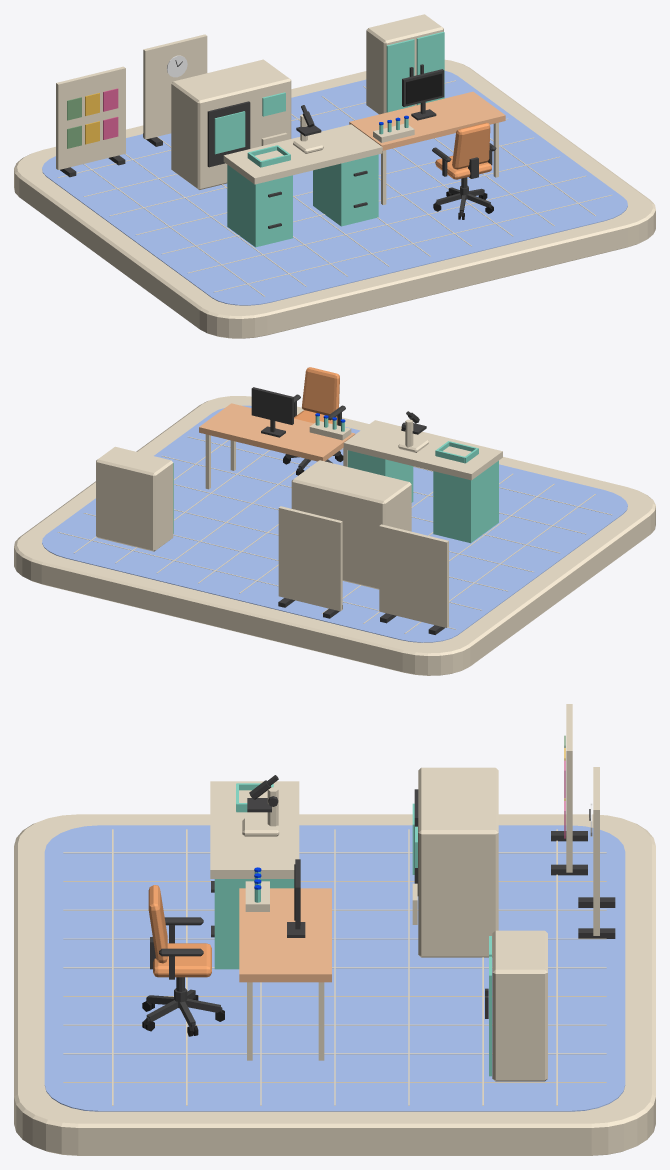
File: room.fbx
3 renders of one model, top to bottom at view 1: azimuth 30°, elevation 25°; view 2: azimuth 150°, elevation 25°; view 3: azimuth 270°, elevation 25°, orthographic. The views are drawn at different scales.
Visible parts, largest first — view 1: COM-02 Floor Surface, COM-01 Rounded Base Direct, Analysis cabinet, Top, Panel, Storage module, Worktop, Panel.001, Storage module.001, COM-04_Chair_blender_direct, Equipment case, Door (+7 smaller); view 2: COM-02 Floor Surface, COM-01 Rounded Base Direct, Analysis cabinet, Equipment case, Panel, Panel.001, Top, Storage module, Worktop, COM-04_Chair_blender_direct, Frame, Storage module.001 (+1 smaller); view 3: COM-02 Floor Surface, COM-01 Rounded Base Direct, Analysis cabinet, Top, Equipment case, Worktop, COM-04_Chair_blender_direct, Storage module.001, Panel.001, Panel, Grout X.007, Grout X.006 (+3 smaller).
Boxes of the visible parts, x1=… form: COM-02 Floor Surface: x1=42, y1=71, x2=627, y2=305; COM-01 Rounded Base Direct: x1=14, y1=59, x2=655, y2=338; Analysis cabinet: x1=171, y1=59, x2=291, y2=189; Top: x1=349, y1=91, x2=505, y2=204; Panel: x1=56, y1=66, x2=125, y2=169; Storage module: x1=227, y1=165, x2=292, y2=247; Worktop: x1=223, y1=124, x2=382, y2=184; Panel.001: x1=143, y1=34, x2=207, y2=139; Storage module.001: x1=313, y1=154, x2=378, y2=226; COM-04_Chair_blender_direct: x1=432, y1=122, x2=496, y2=219; Equipment case: x1=366, y1=14, x2=443, y2=114; Door: x1=386, y1=39, x2=414, y2=112; COM-02 Floor Surface: x1=42, y1=405, x2=627, y2=642; COM-01 Rounded Base Direct: x1=14, y1=396, x2=655, y2=675; Analysis cabinet: x1=291, y1=460, x2=411, y2=589; Equipment case: x1=96, y1=446, x2=173, y2=551; Panel: x1=379, y1=524, x2=448, y2=627; Panel.001: x1=278, y1=506, x2=342, y2=611; Top: x1=199, y1=403, x2=355, y2=489; Storage module: x1=433, y1=460, x2=498, y2=543; Worktop: x1=343, y1=420, x2=502, y2=480; COM-04_Chair_blender_direct: x1=283, y1=367, x2=345, y2=475; Frame: x1=251, y1=387, x2=293, y2=437; Storage module.001: x1=347, y1=450, x2=413, y2=502; COM-02 Floor Surface: x1=44, y1=825, x2=625, y2=1111; COM-01 Rounded Base Direct: x1=14, y1=814, x2=655, y2=1155; Analysis cabinet: x1=418, y1=767, x2=498, y2=957; Top: x1=239, y1=888, x2=331, y2=1060; Equipment case: x1=492, y1=930, x2=547, y2=1081; Worktop: x1=210, y1=781, x2=299, y2=878; COM-04_Chair_blender_direct: x1=142, y1=885, x2=224, y2=1036; Storage module.001: x1=214, y1=879, x2=294, y2=969; Panel.001: x1=593, y1=767, x2=599, y2=935; Panel: x1=566, y1=704, x2=572, y2=872; Grout X.007: x1=63, y1=1053, x2=606, y2=1054; Grout X.006: x1=63, y1=1024, x2=606, y2=1025.
Bounding box in the file's own units: 600 × 169 × 520.
